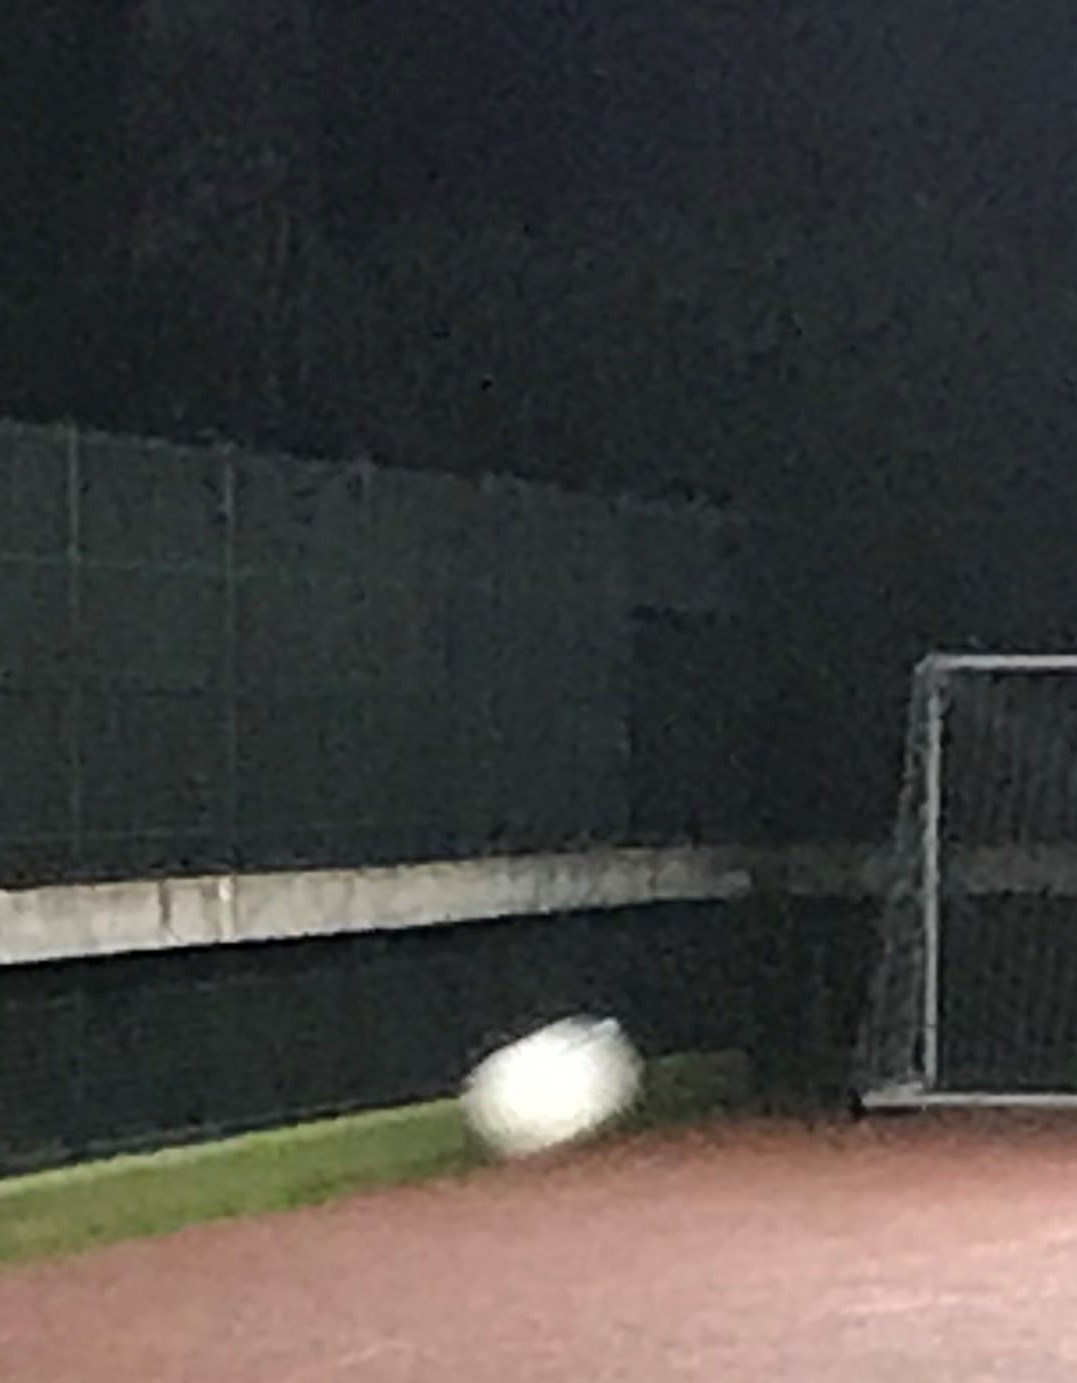football: (468, 1045, 602, 1154)
